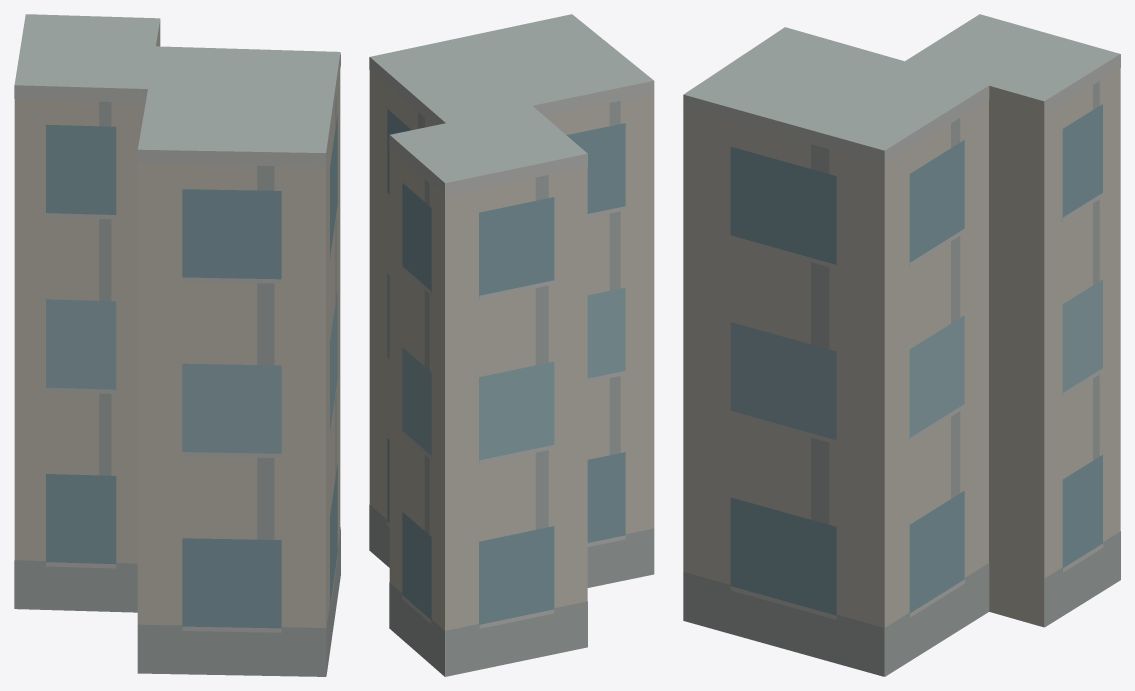
The model's file is survey-upis-32821696.glb.
3 renders of one model, left to right at view 1: azimuth 30°, elevation 25°; view 2: azimuth 150°, elevation 25°; view 3: azimuth 270°, elevation 25°, orthographic. The views are drawn at different scales.
Parts seen in each view (by area): view 1: survey-upis-32821696.tmp; view 2: survey-upis-32821696.tmp; view 3: survey-upis-32821696.tmp.
Boxes of the visible parts, left/top/right/bottom form: survey-upis-32821696.tmp: left=14, top=14, right=340, bottom=676; survey-upis-32821696.tmp: left=369, top=14, right=654, bottom=676; survey-upis-32821696.tmp: left=683, top=14, right=1120, bottom=676.
Bounding box in the file's own units: 5.11 × 9.15 × 6.9.
